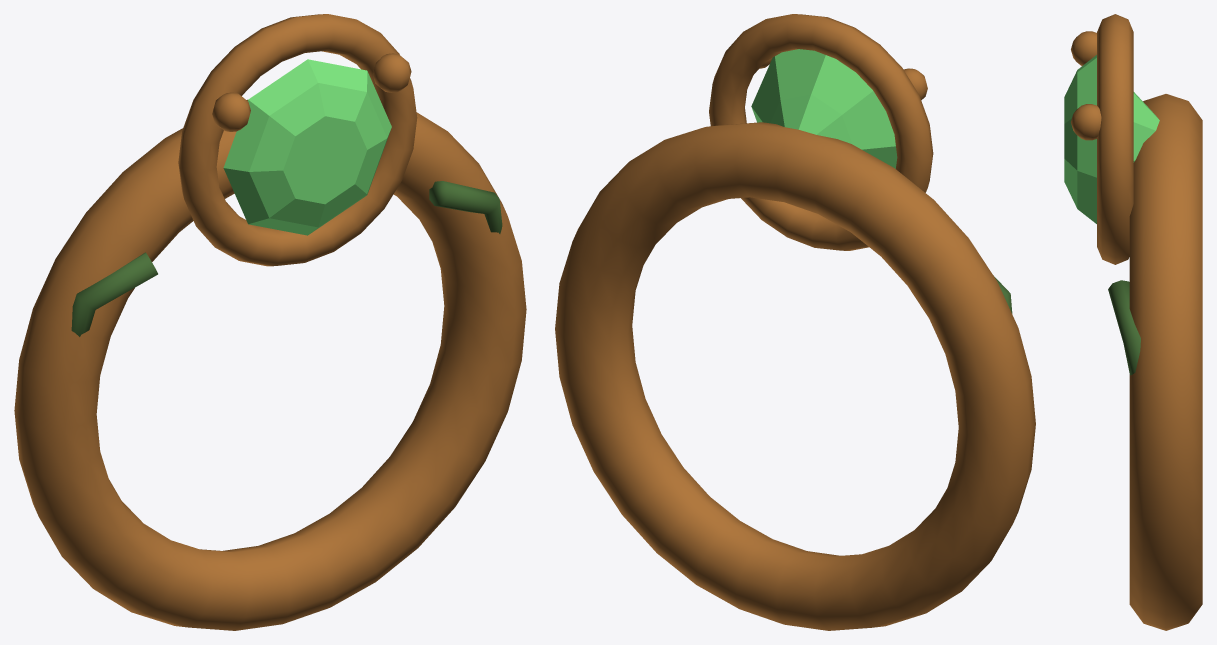
The model's file is acc_antidote_ring.fbx.
3 views of the same model, side by side, from view 1: azimuth 30°, elevation 25°; view 2: azimuth 150°, elevation 25°; view 3: azimuth 270°, elevation 25° (orthographic). The views are drawn at different scales.
Visible parts, largest first — view 1: acc_antidote_ring; view 2: acc_antidote_ring; view 3: acc_antidote_ring.
Boxes of the visible parts, left/top/right/bottom form: acc_antidote_ring: left=14, top=14, right=526, bottom=630; acc_antidote_ring: left=555, top=14, right=1035, bottom=630; acc_antidote_ring: left=1064, top=14, right=1202, bottom=630.
Size of the model in its own units: 0.35 by 0.417 by 0.0899.
